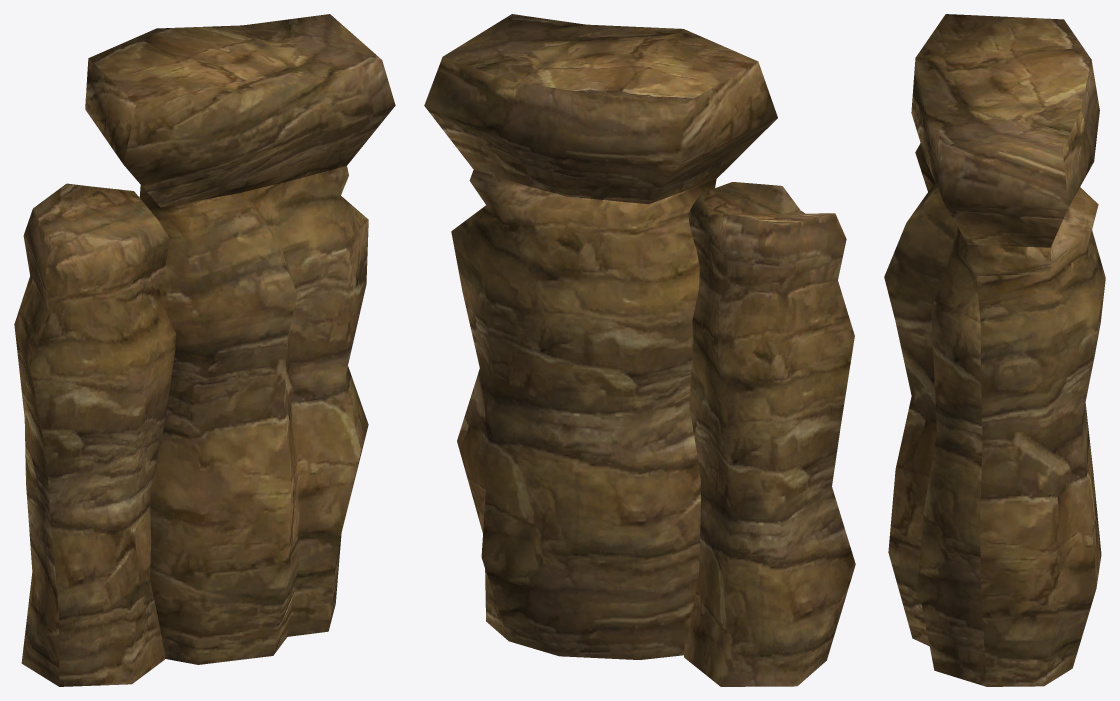
The model's file is environment_stone_shanya_002_a07.FBX.
The picture shows the model from 3 angles, left to right: view 1: azimuth 30°, elevation 25°; view 2: azimuth 150°, elevation 25°; view 3: azimuth 270°, elevation 25°; orthographic projection. The views are drawn at different scales.
Parts seen in each view (by area): view 1: environment_stone_shanya_002_a07; view 2: environment_stone_shanya_002_a07; view 3: environment_stone_shanya_002_a07.
Part boxes in pixels (box(x1,y1,x2,y2)): environment_stone_shanya_002_a07: box(14, 14, 395, 686); environment_stone_shanya_002_a07: box(424, 14, 855, 686); environment_stone_shanya_002_a07: box(884, 14, 1105, 686).
Size of the model in its own units: 515 by 761 by 270.
